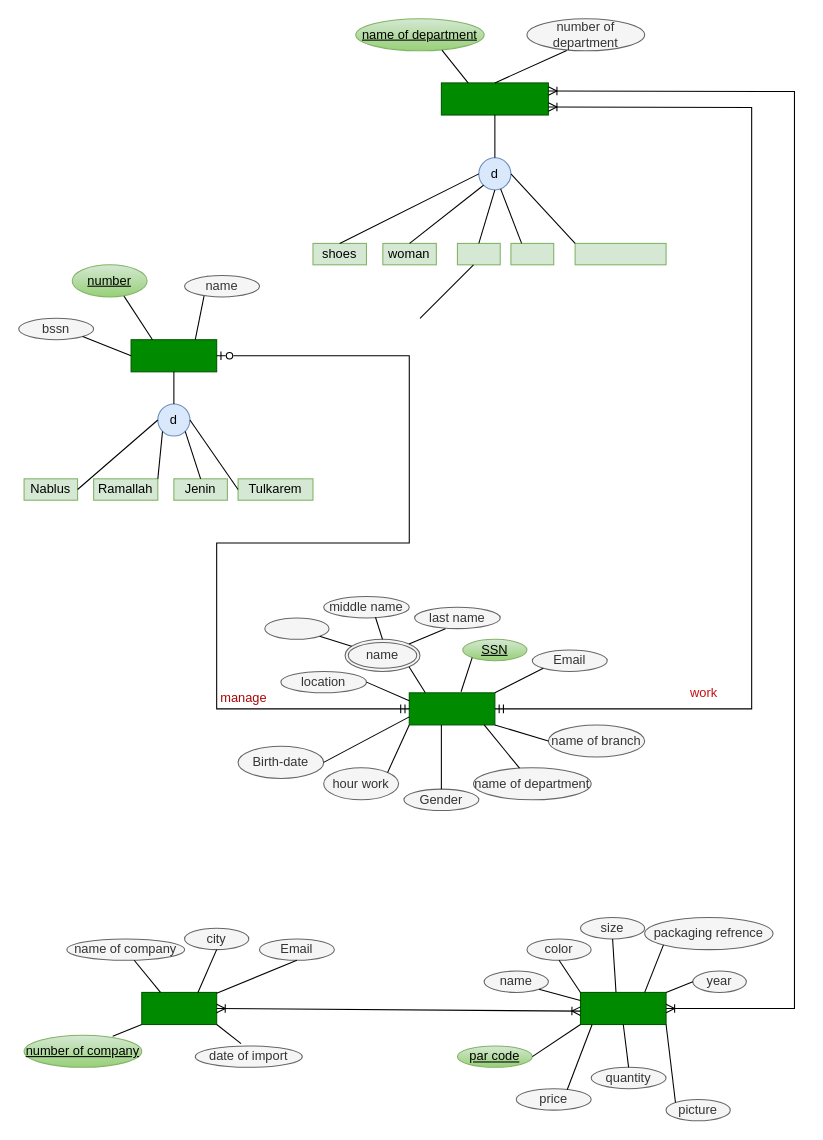
Some shapes in this 823 by 1140 pixel diagram are drawn without their labels. The centre of each missing label's shape, as x and y in pixels:
accessories: pixel 620 253
Branch: pixel 173 355
Department: pixel 494 98
Emoloyee: pixel 451 708
first name: pixel 296 628
Import: pixel 179 1008
kids: pixel 532 253
men: pixel 478 253
Product: pixel 622 1008
